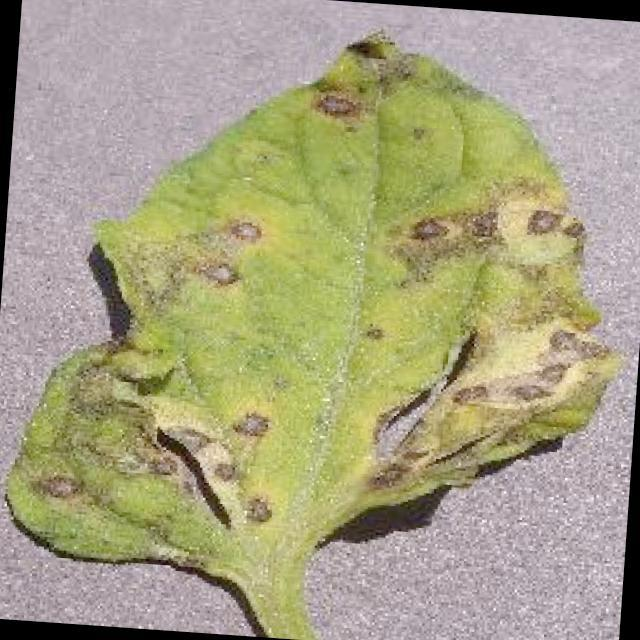Tomato Septoria spot leaf: (0, 4, 633, 594)
